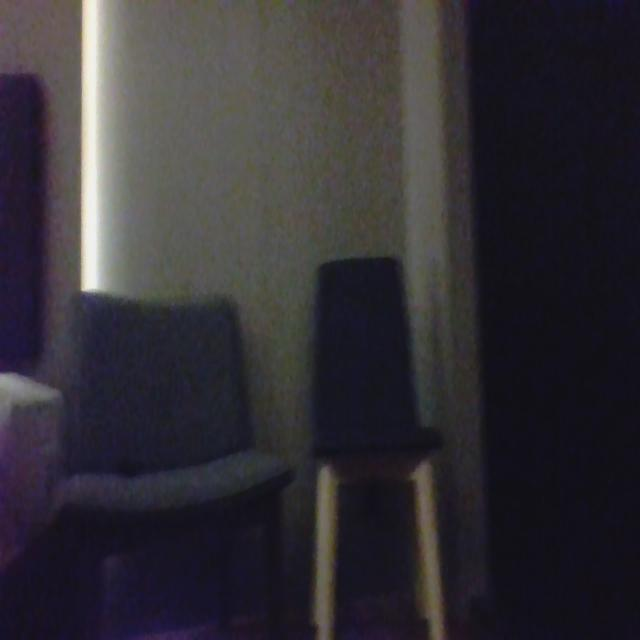empty: (60, 283, 268, 486), (314, 249, 421, 482)
